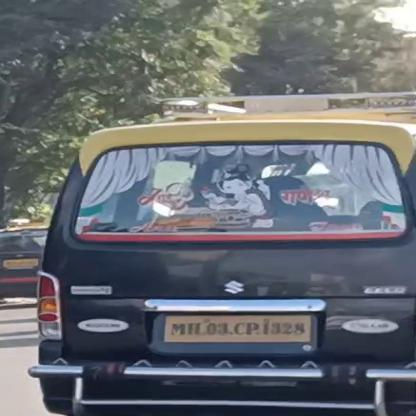license_plate: (163, 314, 310, 342)
